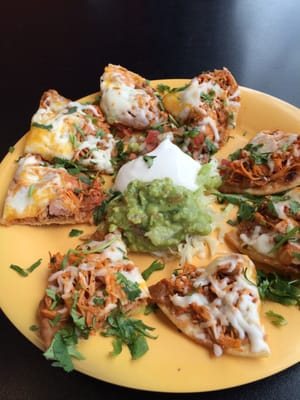curry: (121, 177, 216, 249), (101, 309, 159, 360)
